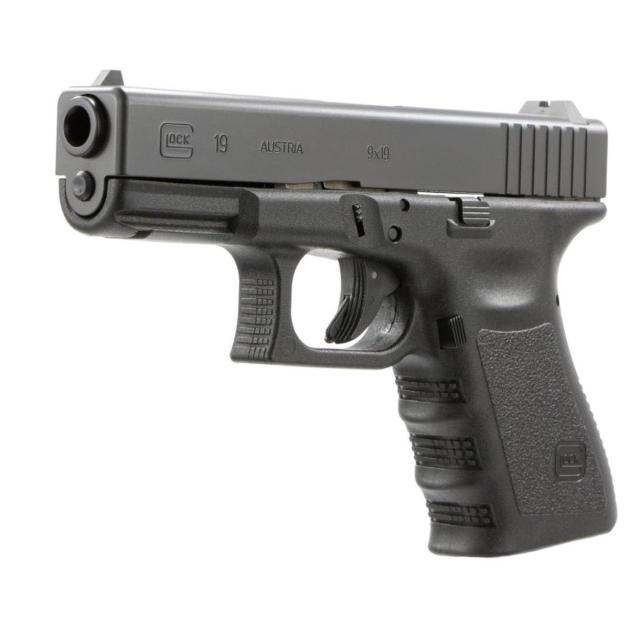Weapon: (56, 70, 616, 556)
